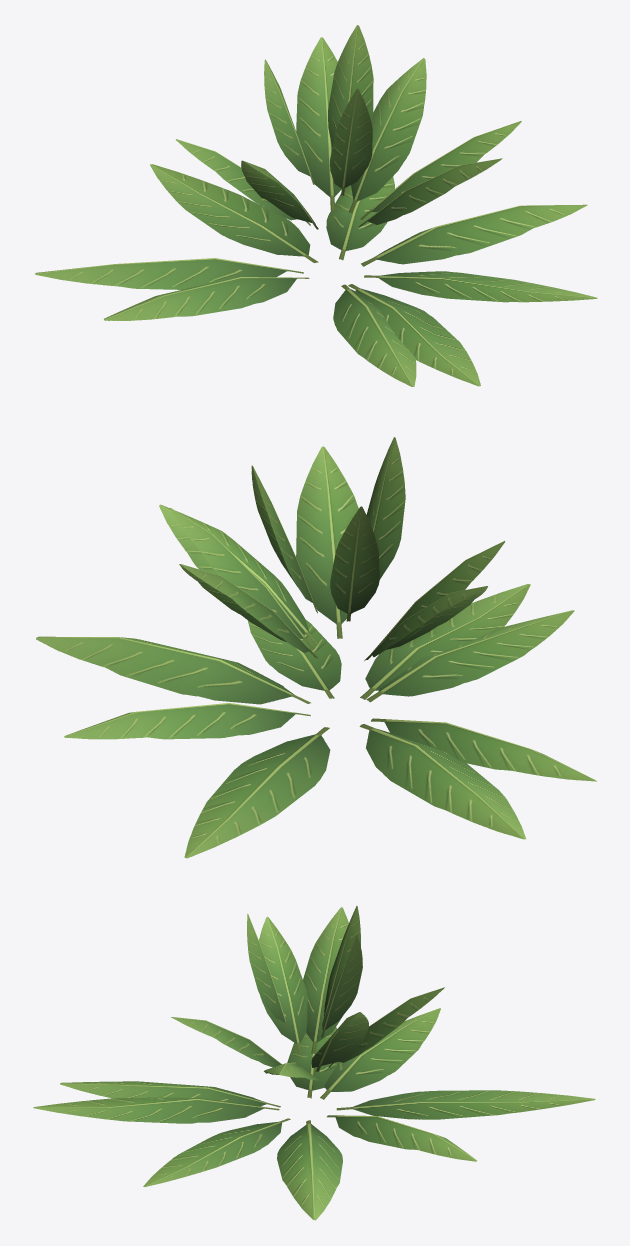
The model's file is shrub_b.glb.
The picture shows the model from 3 angles, top to bottom: view 1: azimuth 30°, elevation 25°; view 2: azimuth 150°, elevation 25°; view 3: azimuth 270°, elevation 25°; orthographic projection. The views are drawn at different scales.
Parts seen in each view (by area): view 1: shrub_b_mesh; view 2: shrub_b_mesh; view 3: shrub_b_mesh.
Boxes of the visible parts, left/top/right/bottom form: shrub_b_mesh: left=35, top=25, right=597, bottom=386; shrub_b_mesh: left=36, top=437, right=596, bottom=858; shrub_b_mesh: left=33, top=906, right=595, bottom=1220.
Size of the model in its own units: 0.9357 by 0.3906 by 1.04.
1 material, 1 textured.
